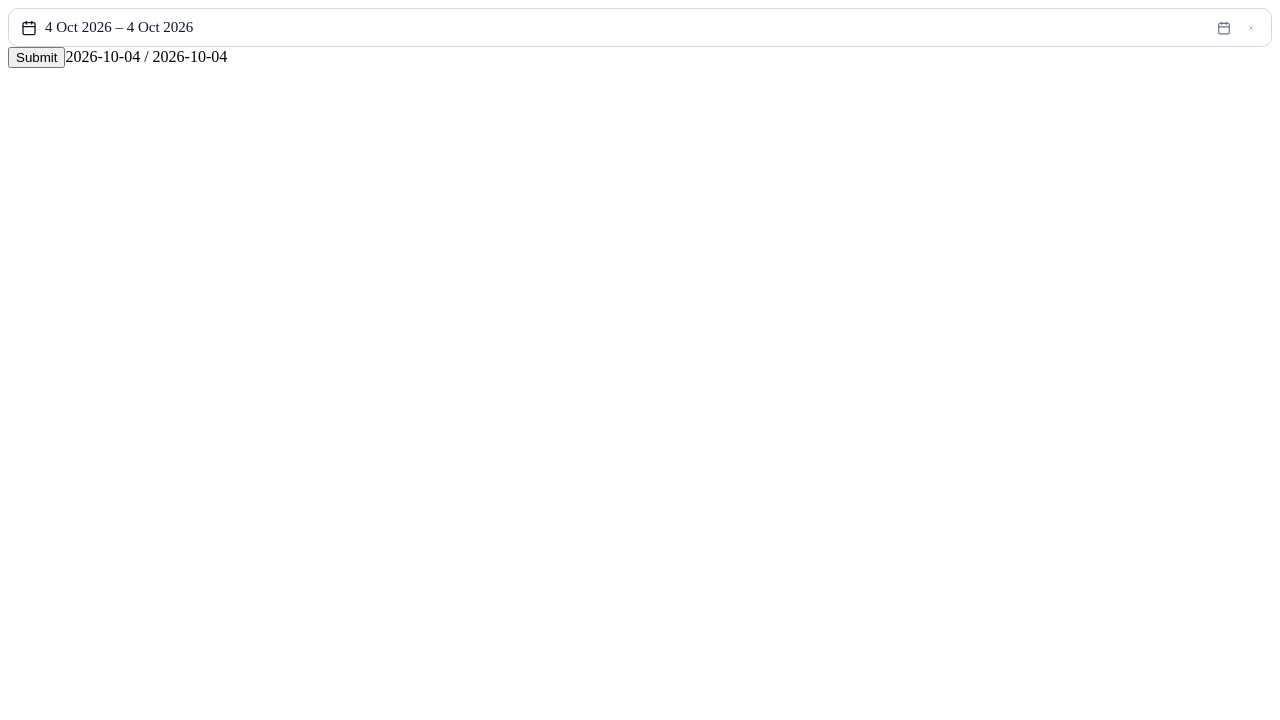
it: one click on 28 November replaces 4 October even when closed outside
Click the button with aria-label "Dates" at x=119, y=27, box left=8, top=8, right=1272, bottom=47
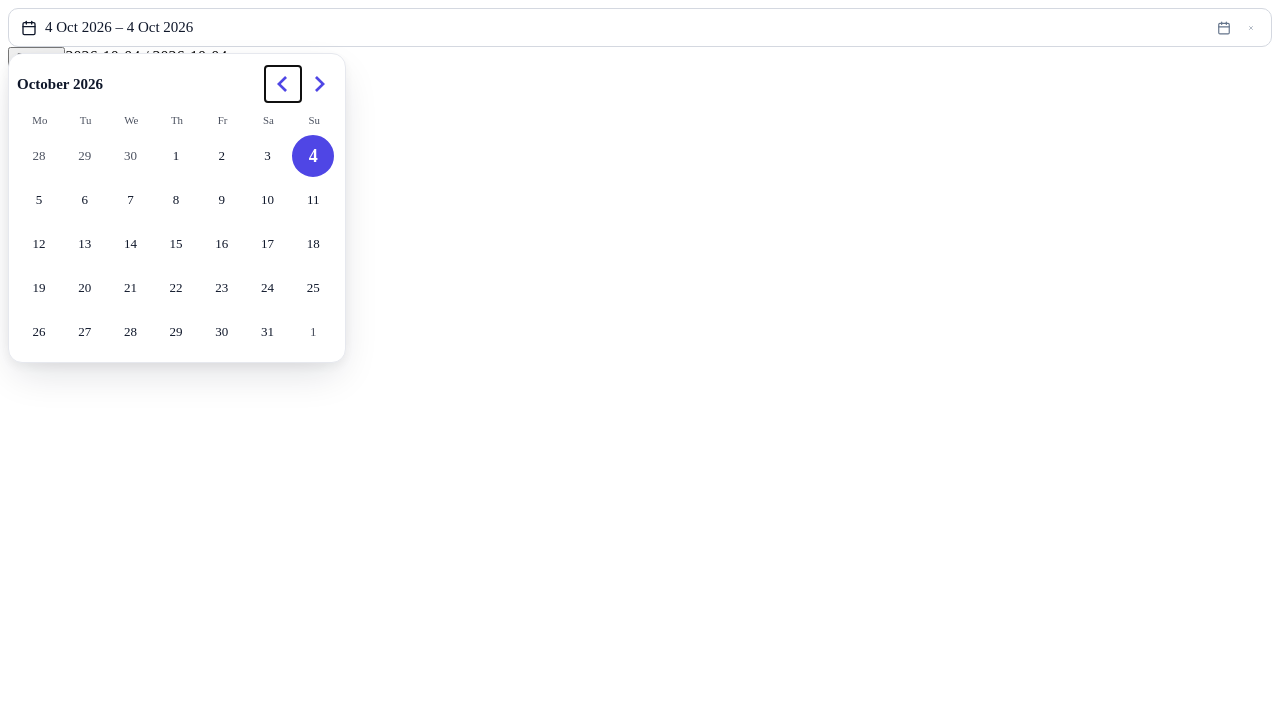
Click the button named "next month" at x=319, y=84, box left=301, top=66, right=337, bottom=102
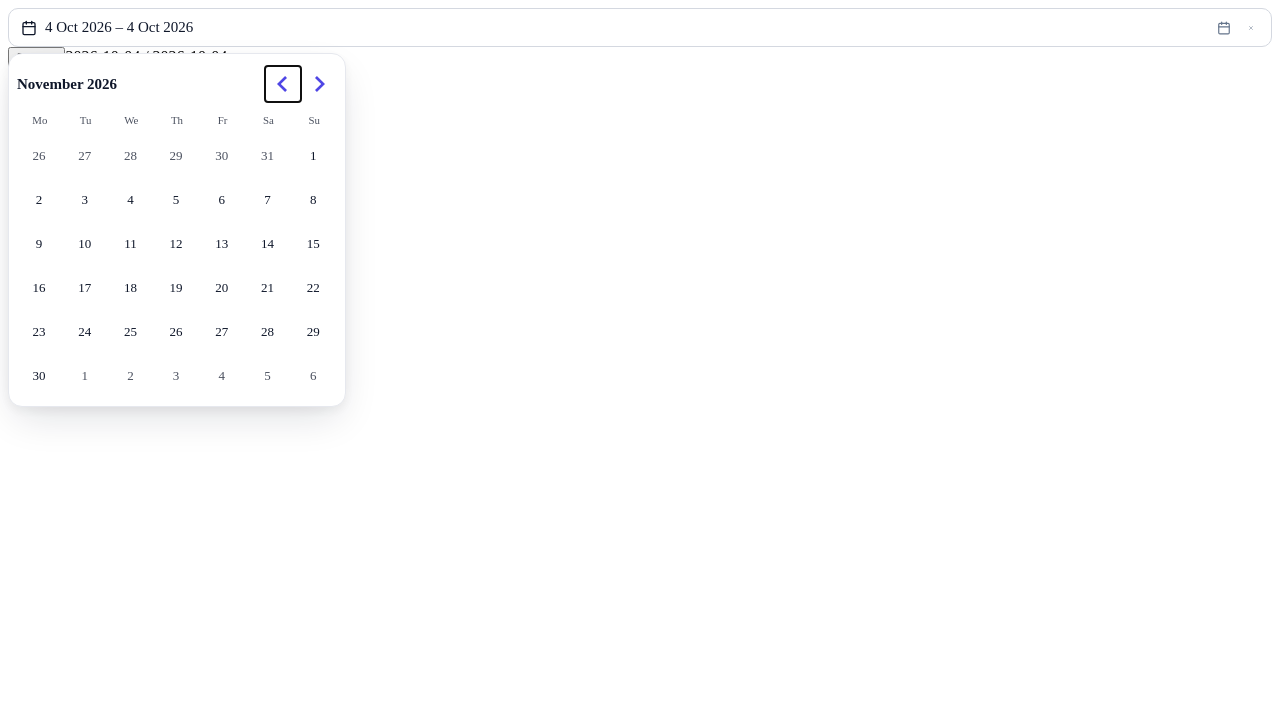
Click the button named "Saturday, November 28th, 2026" at x=268, y=332, box left=246, top=311, right=288, bottom=353
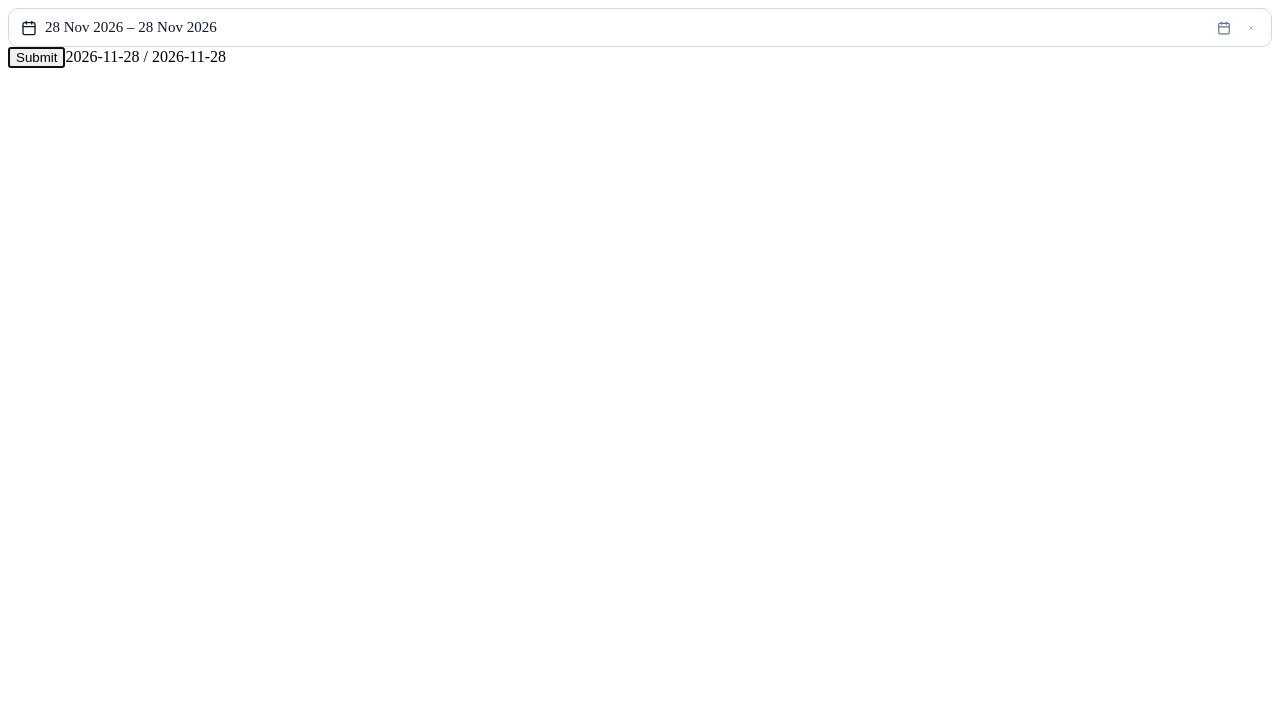
Expected: the dialog is gone
Expected: the text named "Saved dates" reads "2026-11-28 / 2026-11-28", left=66, top=48, right=226, bottom=65
